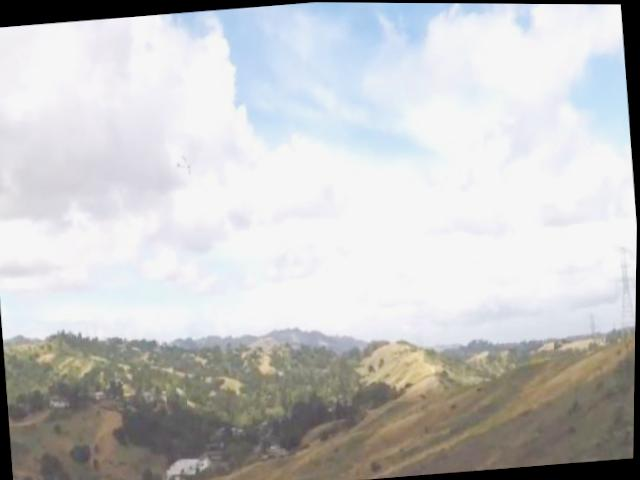iha: (173, 152, 201, 183)
